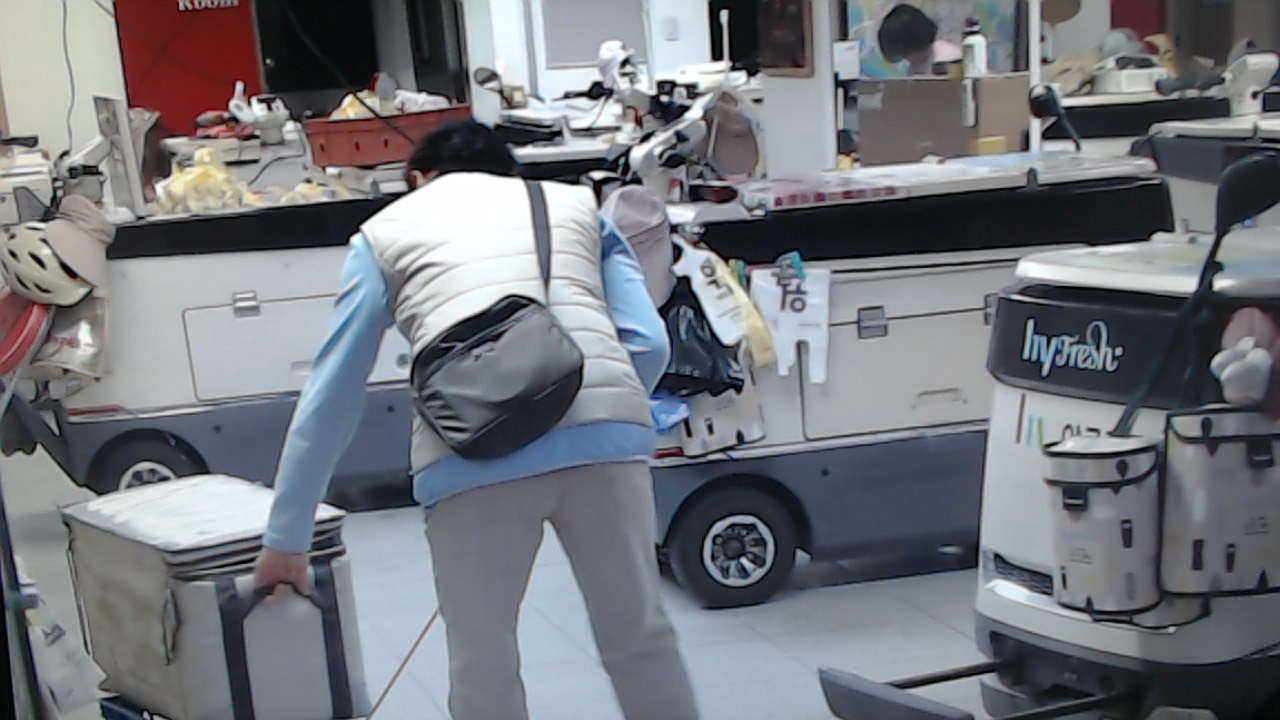Yakurut: (247, 122, 710, 720)
